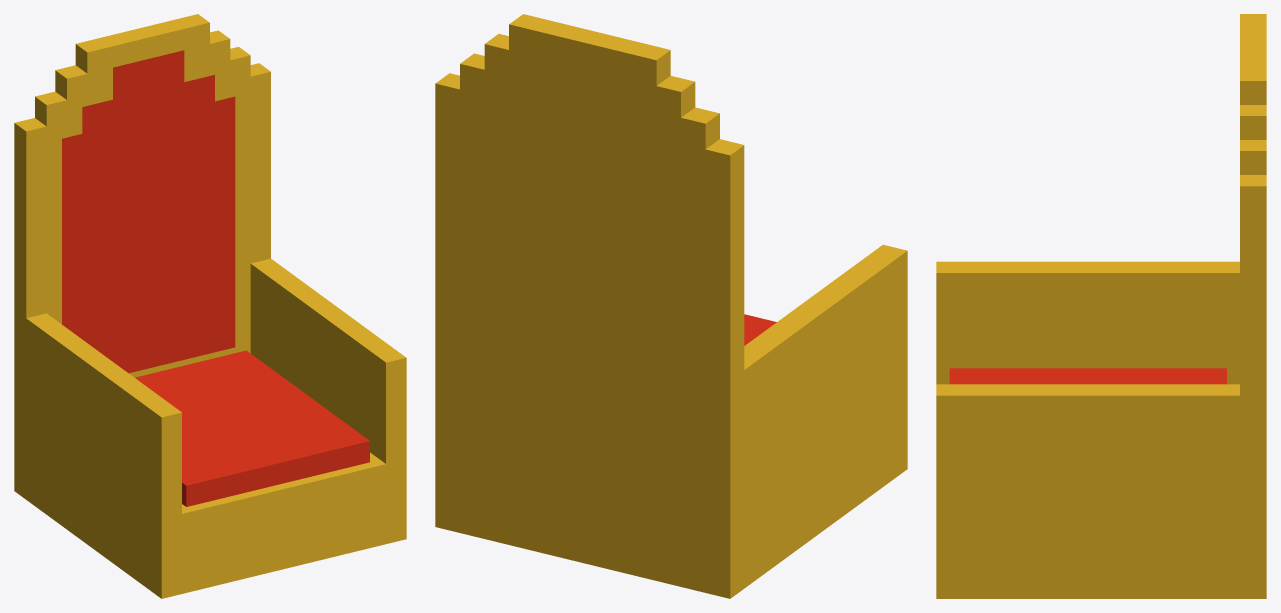
The model's file is Throne.obj.
The picture shows the model from 3 angles, left to right: view 1: azimuth 30°, elevation 25°; view 2: azimuth 150°, elevation 25°; view 3: azimuth 270°, elevation 25°; orthographic projection. The views are drawn at different scales.
Bounding box in the file's own units: 4.8 × 8.1 × 5.
